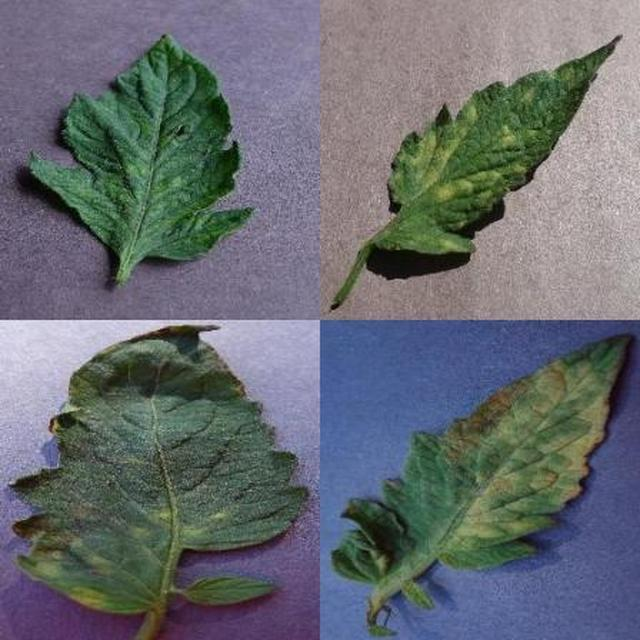Mosaic Virus Leaf: (204, 207, 640, 640)
